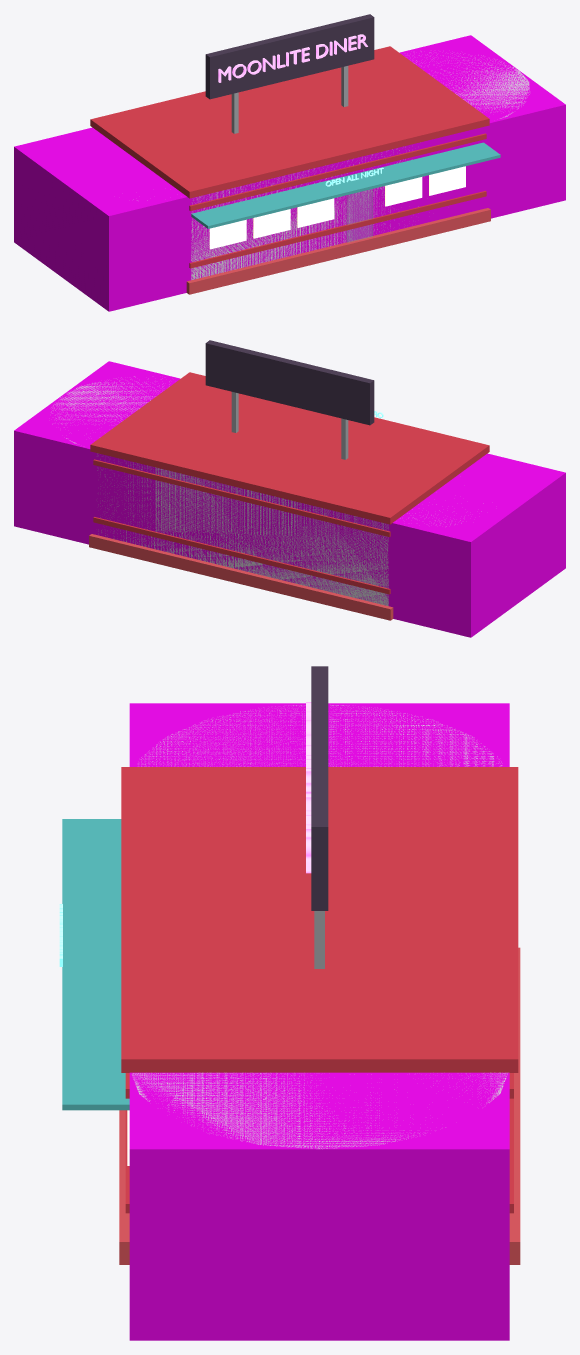
The model's file is diner.glb.
The picture shows the model from 3 angles, top to bottom: view 1: azimuth 30°, elevation 25°; view 2: azimuth 150°, elevation 25°; view 3: azimuth 270°, elevation 25°; orthographic projection. The views are drawn at different scales.
Visible parts, largest first — view 1: COL_Diner, Diner_RoofCap, Diner_SignBoard, Diner_Awning, Diner_Base, Diner_Body, Diner_Windows, Diner_Stripes, Diner, Diner_Neon, Diner_Door, Diner_SignPosts; view 2: COL_Diner, Diner_RoofCap, Diner_Body, Diner_SignBoard, Diner_Base, Diner_Stripes, Diner, Diner_SignPosts; view 3: COL_Diner, Diner_RoofCap, Diner_Awning, Diner, Diner_SignBoard, Diner_End_-1, Diner_Base, Diner_Stripes, Diner_Neon.
Boxes of the visible parts, x1,y1,x2,y2 form: COL_Diner: (14,35,565,311); Diner_RoofCap: (90,46,489,198); Diner_SignBoard: (205,14,374,99); Diner_Awning: (191,142,500,228); Diner_Base: (186,208,490,294); Diner_Body: (191,147,418,279); Diner_Windows: (209,166,465,249); Diner_Stripes: (189,133,486,268); Diner: (414,51,529,118); Diner_Neon: (218,34,367,82); Diner_Door: (346,189,372,242); Diner_SignPosts: (231,66,348,133); COL_Diner: (14,361,565,637); Diner_RoofCap: (90,372,489,524); Diner_Body: (97,453,388,605); Diner_SignBoard: (205,340,374,425); Diner_Base: (89,534,393,620); Diner_Stripes: (93,459,390,594); Diner: (51,376,169,443); Diner_SignPosts: (231,392,348,459); COL_Diner: (129,703,509,1340); Diner_RoofCap: (121,767,518,1072); Diner_Awning: (62,819,129,1110); Diner: (132,1072,507,1149); Diner_SignBoard: (311,666,328,910); Diner_End_-1: (138,705,502,766); Diner_Base: (119,947,520,1264); Diner_Stripes: (125,1073,513,1213); Diner_Neon: (306,702,311,873).
Bounding box in the file's own units: 25 × 9.7 × 10.91.
